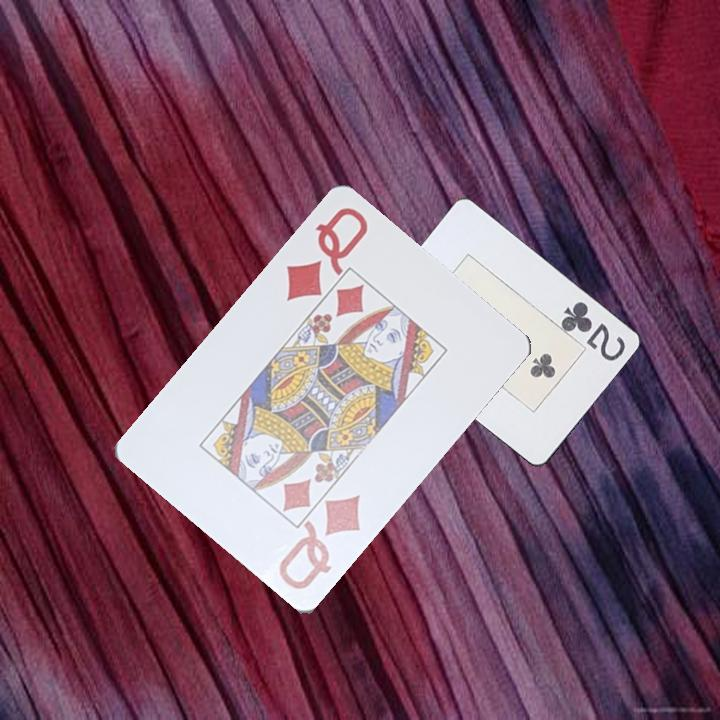2c: (557, 298, 628, 364)
Qd: (282, 204, 372, 306), (275, 491, 364, 594)
